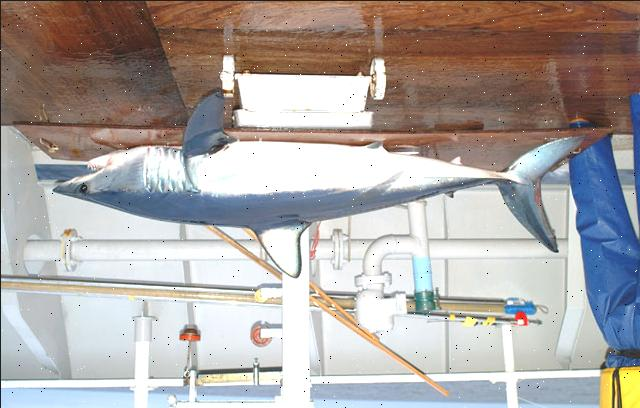Mulut: (59, 143, 121, 193)
Sirip Anal: (442, 139, 471, 173)
Sirip Dada: (165, 69, 252, 167)
Sirip Ekor: (481, 116, 625, 260)
Sirip Perut: (351, 123, 419, 166)
Sirip Punggung: (243, 208, 325, 286)
